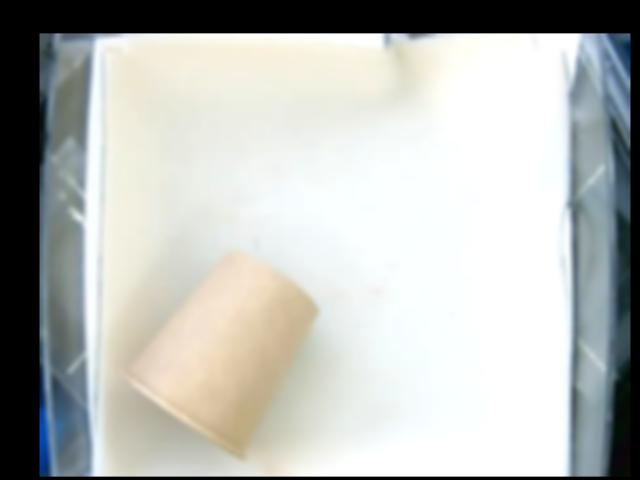Cup: (125, 252, 321, 459)
